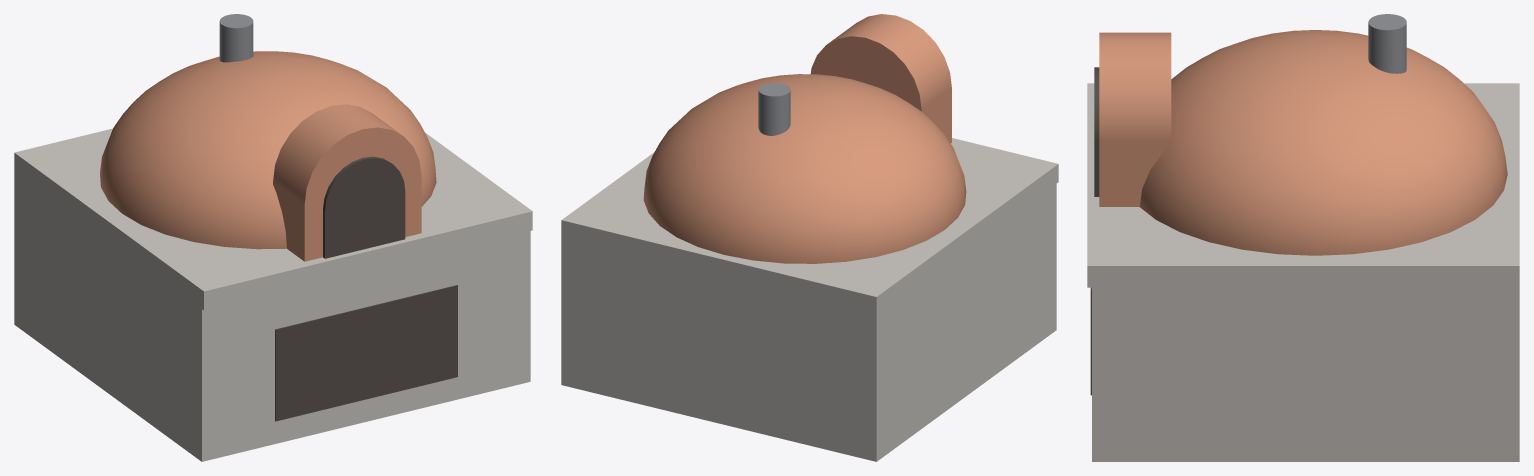
The model's file is oven-dome-02.glb.
3 views of the same model, side by side, from view 1: azimuth 30°, elevation 25°; view 2: azimuth 150°, elevation 25°; view 3: azimuth 270°, elevation 25° (orthographic). The views are drawn at different scales.
Parts seen in each view (by area): view 1: base, dome, hearth, mouth-opening, mouth-arch, chimney; view 2: base, dome, hearth, mouth-arch, chimney; view 3: base, dome, hearth, mouth-arch, chimney, mouth-opening.
Part boxes in pixels (left/top/right/bottom): base: left=14, top=172, right=530, bottom=461; dome: left=100, top=51, right=436, bottom=249; hearth: left=14, top=128, right=532, bottom=310; mouth-opening: left=275, top=156, right=457, bottom=421; mouth-arch: left=273, top=104, right=421, bottom=261; chimney: left=219, top=14, right=253, bottom=62; base: left=561, top=184, right=1056, bottom=461; dome: left=643, top=74, right=966, bottom=263; hearth: left=561, top=138, right=1058, bottom=315; mouth-arch: left=810, top=14, right=951, bottom=143; chimney: left=758, top=83, right=790, bottom=135; base: left=1092, top=287, right=1519, bottom=461; dome: left=1139, top=30, right=1507, bottom=255; hearth: left=1087, top=83, right=1519, bottom=287; mouth-arch: left=1099, top=32, right=1171, bottom=206; chimney: left=1368, top=14, right=1406, bottom=73; mouth-opening: left=1090, top=67, right=1099, bottom=395.
Size of the model in its own units: 1.8 by 1.6 by 1.8.
